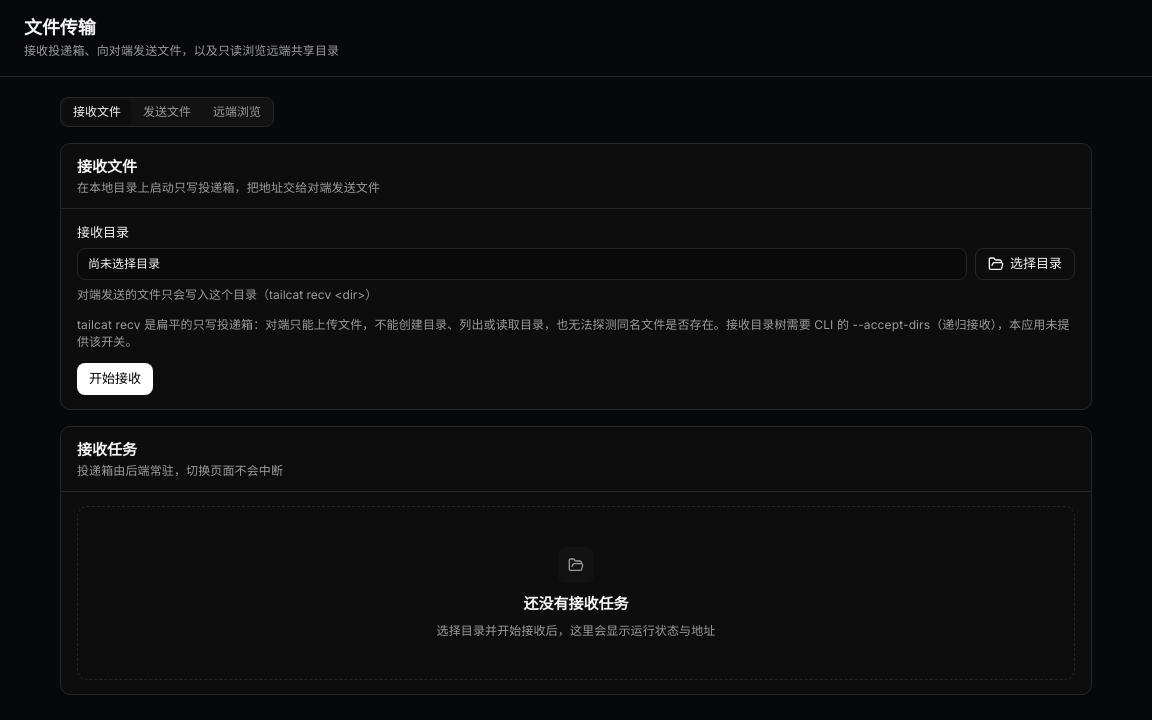
TransferScreen / 发送文件 › 校验非法地址与绝对远端路径，且不启动任务
This screenshot has width=1152, height=720.
Press the mouse on the tab "发送文件" at (167, 112), box [133,100,201,124]
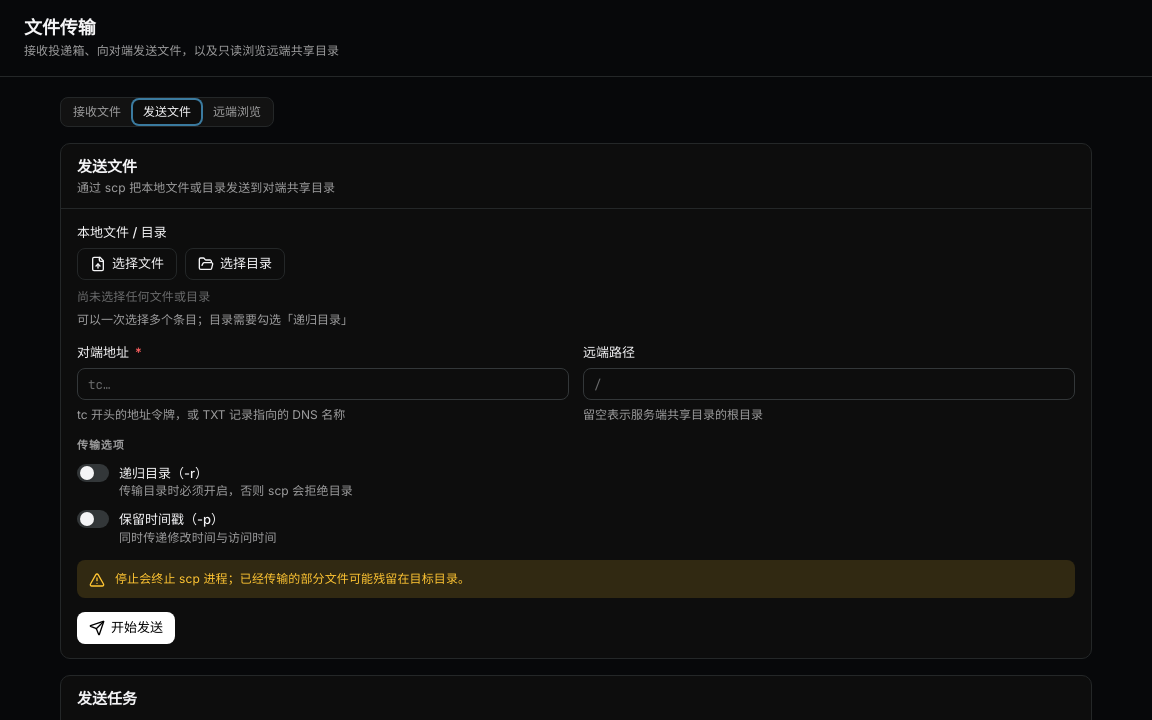
Type "not a valid address" into the field labelled "对端地址 *" at (323, 384), box [77,368,569,400]
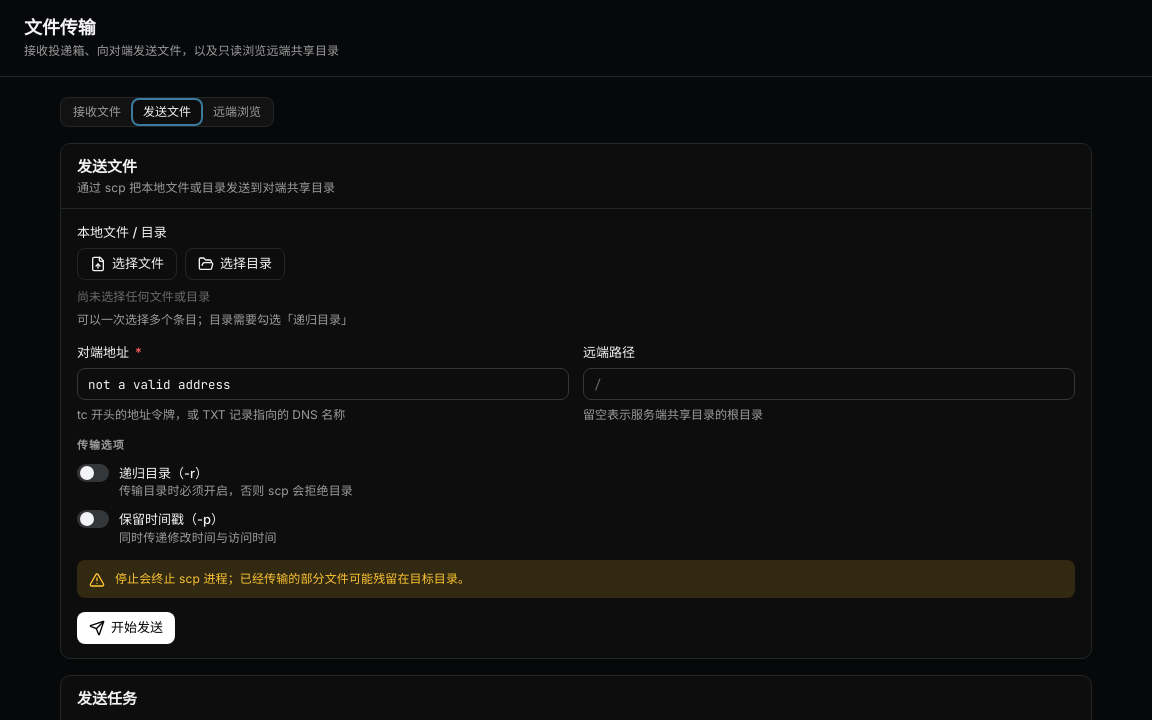
Type "/etc/passwd" into the field labelled "远端路径" at (829, 384), box [583,368,1075,400]
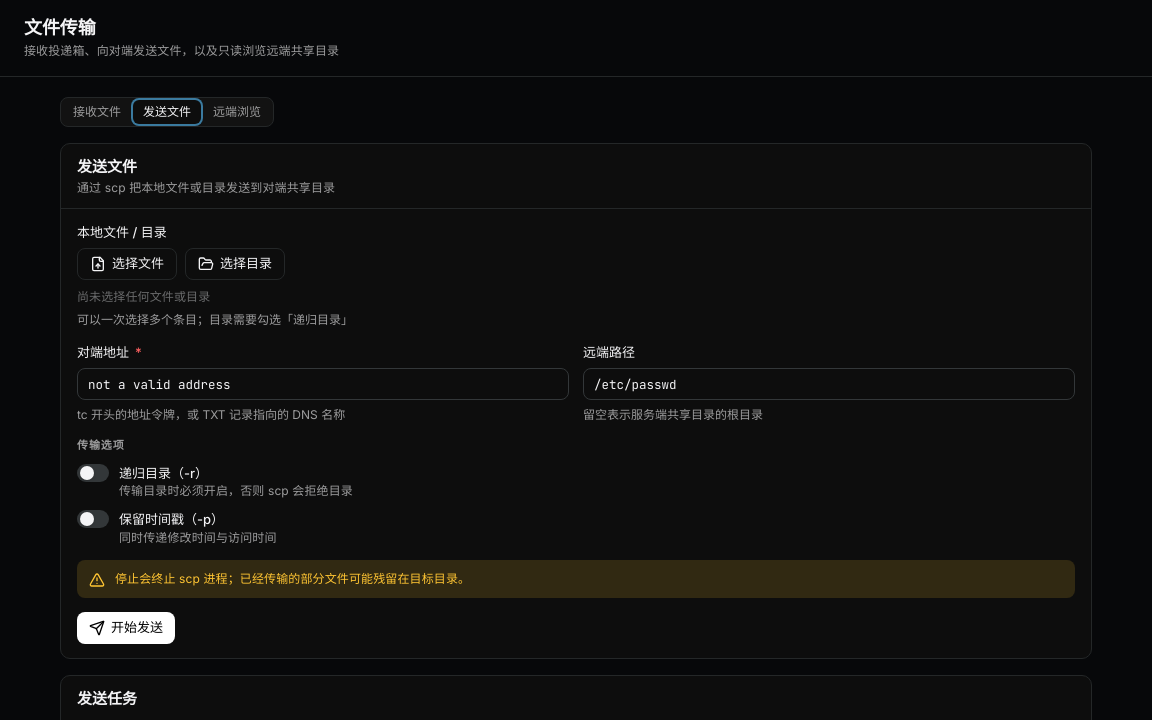
Click the button "开始发送" at (126, 628), box [77,612,175,644]
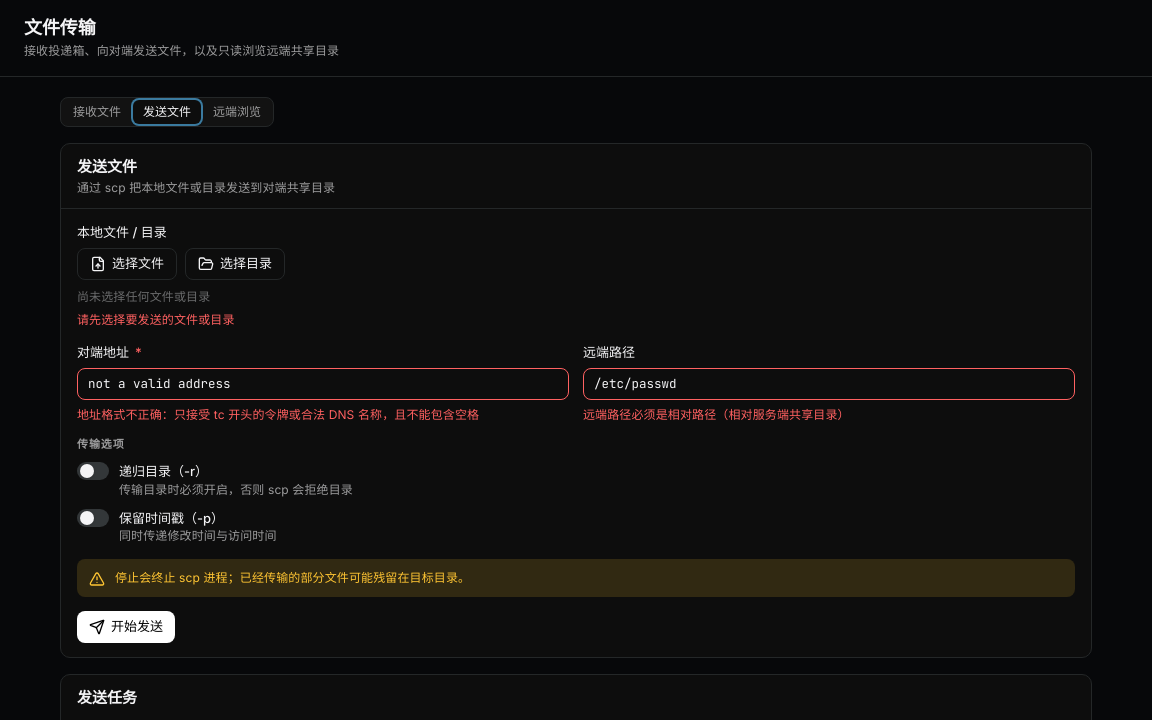
Expected: the text "地址格式不正确：只接受 tc 开头的令牌或合法 DNS 名称，且不能包含空格" is shown, [77,406,479,422]
Expected: the text "远端路径必须是相对路径（相对服务端共享目录）" is shown, [583,406,850,422]
